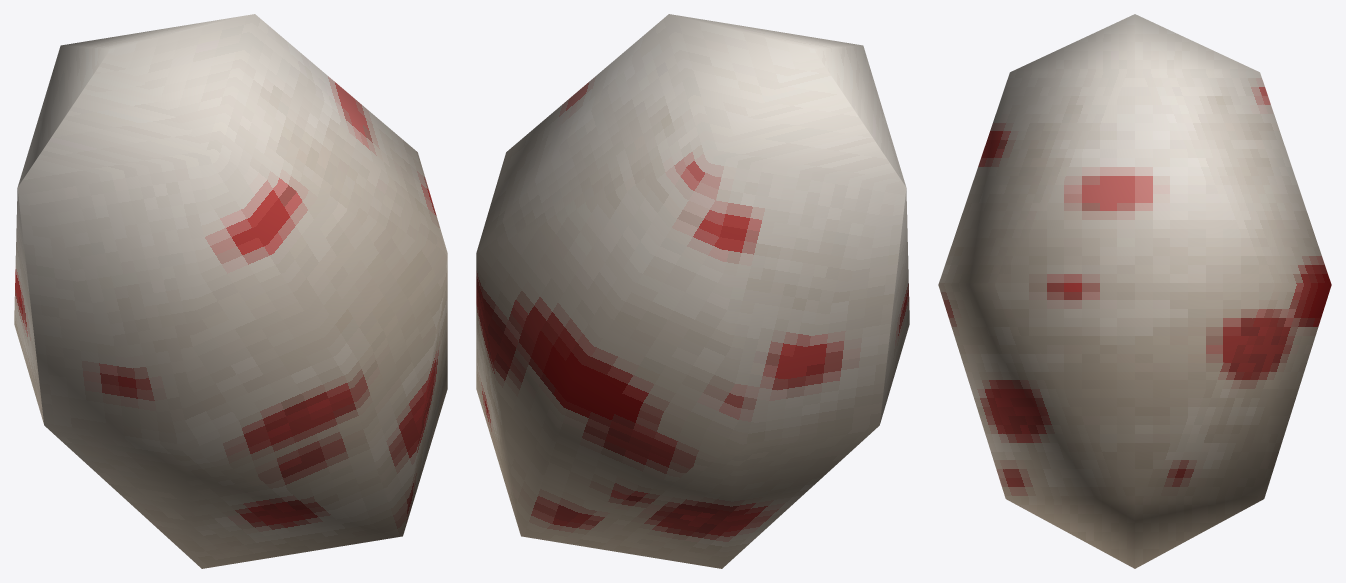
File: CreamBean.fbx
The picture shows the model from 3 angles, left to right: view 1: azimuth 30°, elevation 25°; view 2: azimuth 150°, elevation 25°; view 3: azimuth 270°, elevation 25°; orthographic projection. The views are drawn at different scales.
Parts seen in each view (by area): view 1: material_0; view 2: material_0; view 3: material_0.
Part boxes in pixels (left/top/right/bottom): material_0: left=14, top=14, right=447, bottom=568; material_0: left=476, top=14, right=909, bottom=568; material_0: left=938, top=14, right=1331, bottom=568.
Bounding box in the file's own units: 979 × 1200 × 938.
